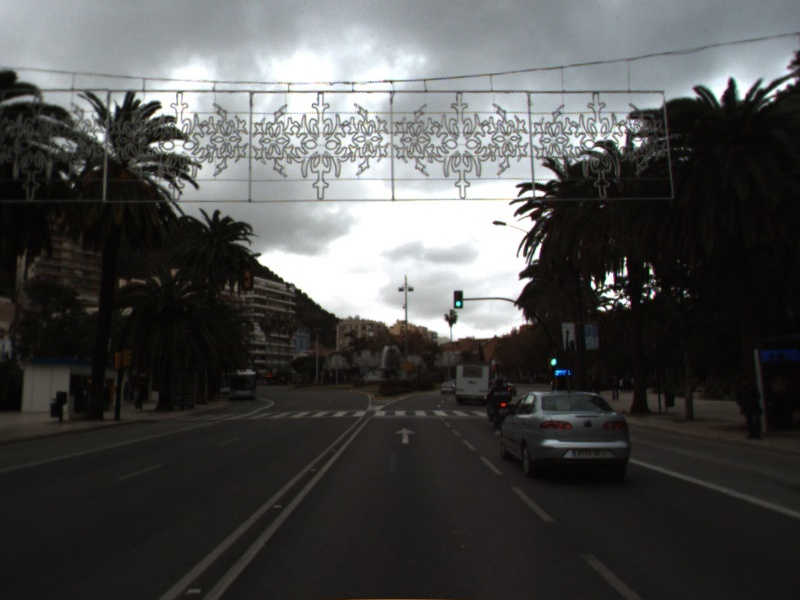STRAIGHT: (392, 425, 418, 446)
